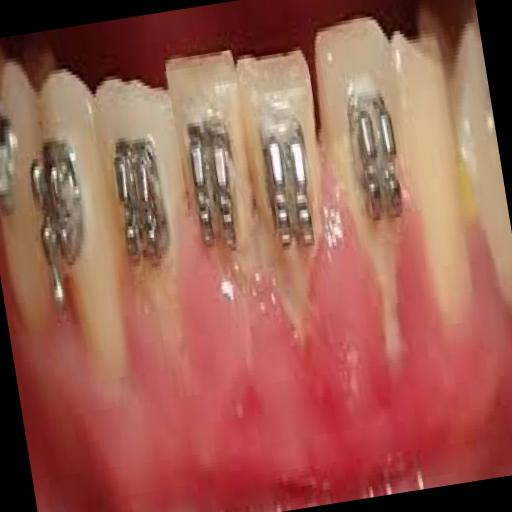correct_brace: (101, 115, 182, 295), (25, 131, 99, 318), (177, 116, 249, 262), (254, 112, 324, 258), (340, 80, 406, 222)
incorrect_brace: (308, 18, 426, 287), (86, 62, 203, 320)
